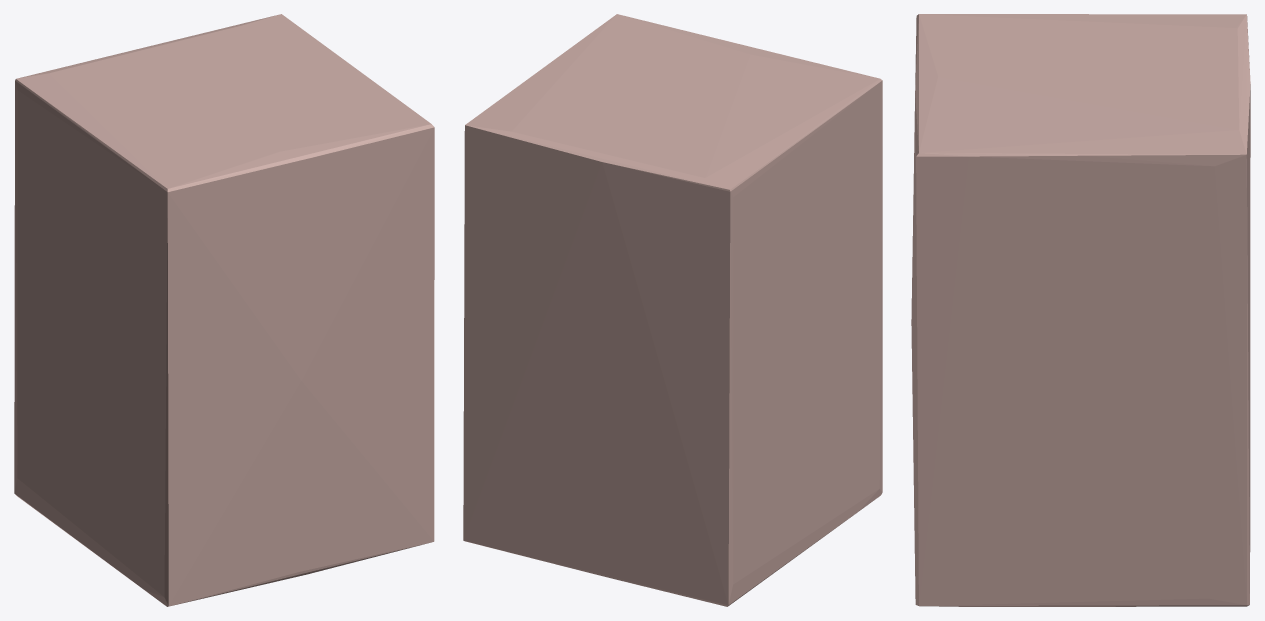
Rendered from box_multiDepth_brown_b10.glb.
The picture shows the model from 3 angles, left to right: view 1: azimuth 30°, elevation 25°; view 2: azimuth 150°, elevation 25°; view 3: azimuth 270°, elevation 25°; orthographic projection. The views are drawn at different scales.
Parts seen in each view (by area): view 1: geometry_0; view 2: geometry_0; view 3: geometry_0.
Part boxes in pixels (left/top/right/bottom): geometry_0: left=14, top=14, right=434, bottom=606; geometry_0: left=463, top=14, right=882, bottom=606; geometry_0: left=911, top=14, right=1250, bottom=606.
Bounding box in the file's own units: 0.3191 × 0.48 × 0.3236.
